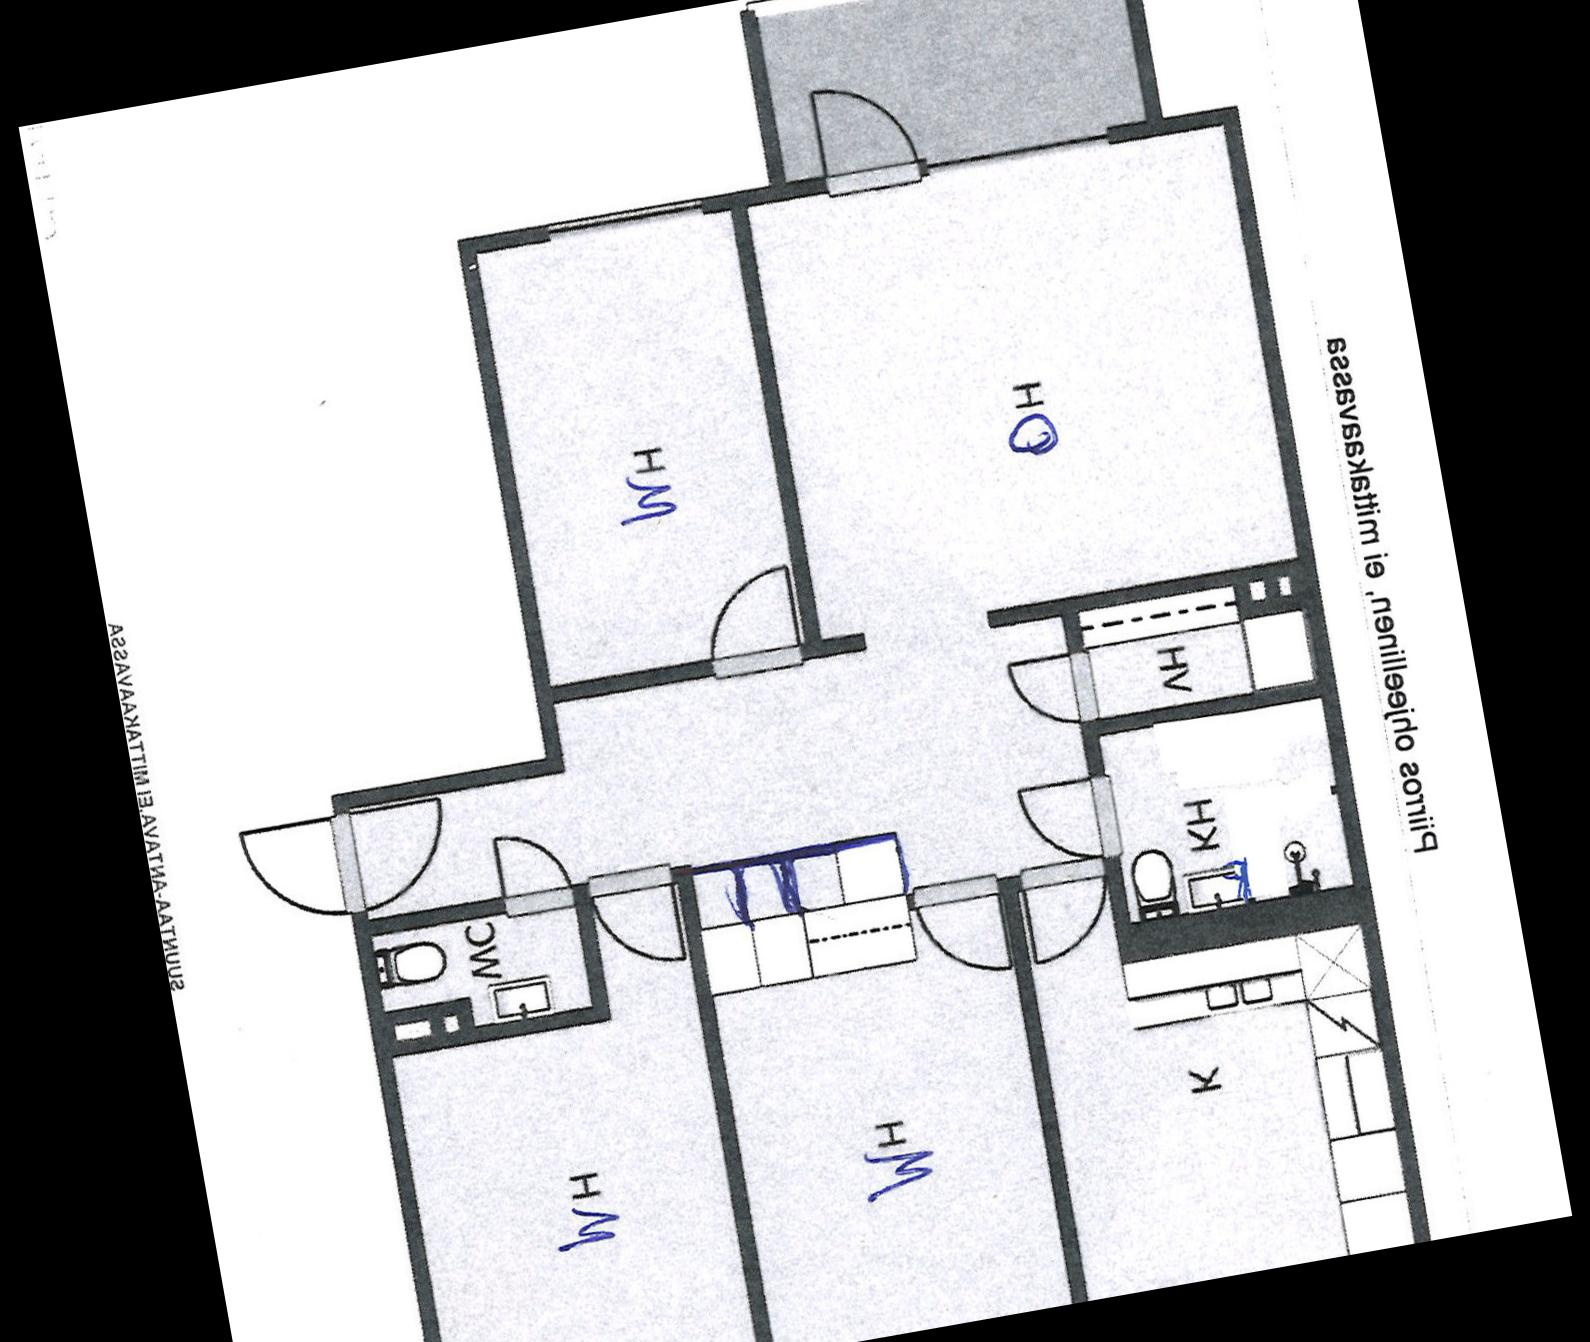door: (802, 64, 940, 209), (233, 797, 362, 931), (332, 785, 461, 919), (903, 865, 1020, 993), (692, 558, 807, 687), (1011, 763, 1132, 875), (583, 857, 688, 979), (1016, 853, 1121, 964), (481, 816, 581, 928), (997, 642, 1104, 738)
window: (910, 118, 1128, 184), (533, 189, 719, 252)
